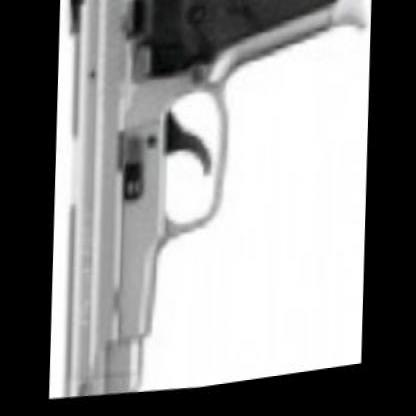pistol: (44, 0, 367, 409)
